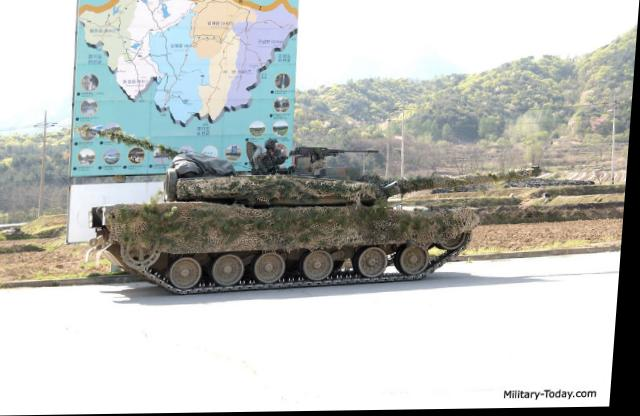other: (245, 136, 300, 178)
tank: (95, 167, 478, 286)
